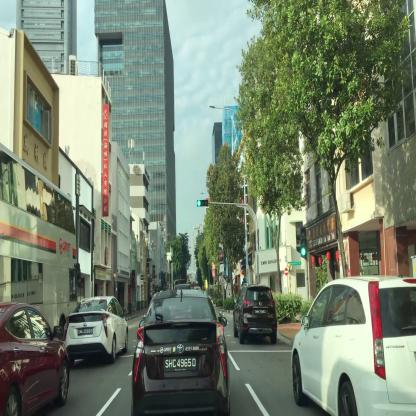green_traffic_light: (300, 227, 306, 257), (197, 200, 208, 206)
